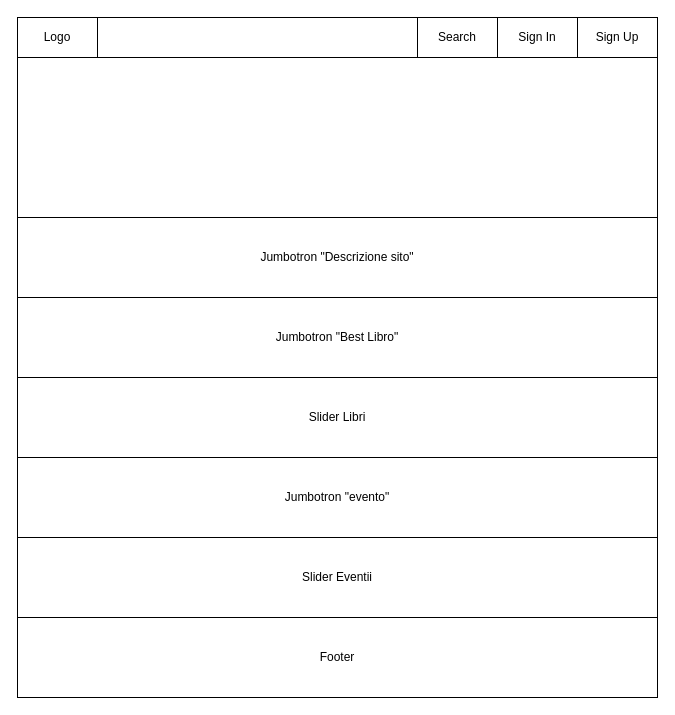
Image size: 675x715. Some labels were removed from this diagram. The centre of each missing label's shape, as x and y in pixels:
Carosello: the point at 337,137
Menu: the point at 257,37
